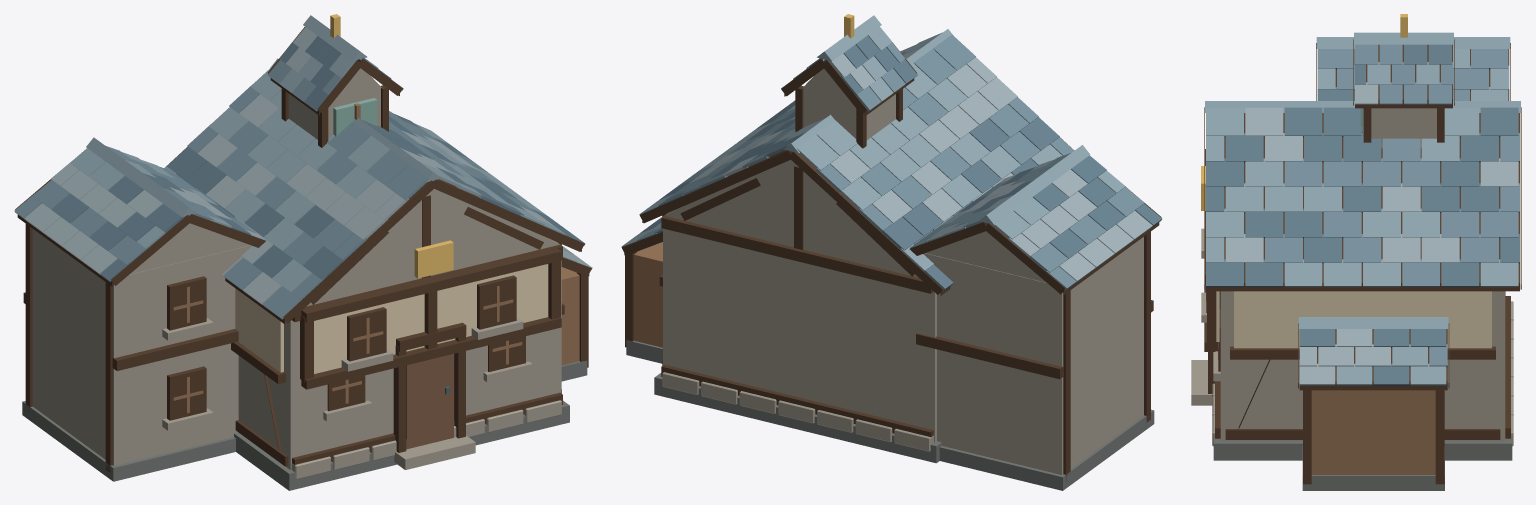
Rendered from ENV_Civic_guild_LOD0.glb.
3 renders of one model, left to right at view 1: azimuth 30°, elevation 25°; view 2: azimuth 150°, elevation 25°; view 3: azimuth 270°, elevation 25°, orthographic.
Parts seen in each view (by area): view 1: ENV_Civic_guild_LOD0_roof_roofTiles, ENV_Civic_guild_LOD0_stage7_upper_wing_stone, ENV_Civic_guild_LOD0_shell_stone, ENV_Civic_guild_LOD0_stage7_upper_wing_roofTiles, ENV_Civic_guild_LOD0_guild_hall_woodDark, ENV_Civic_guild_LOD0_shell_woodDark, ENV_Civic_guild_LOD0_stage7_upper_wing_woodDark, ENV_Civic_guild_LOD0_guild_hall_plasterIvory, ENV_Civic_guild_LOD0_stage8_roof_lantern_roofTiles, ENV_Civic_guild_LOD0_shell_wood, ENV_Civic_guild_LOD0_roof_woodDark, ENV_Civic_guild_LOD0_foundation_stoneDark (+9 smaller); view 2: ENV_Civic_guild_LOD0_shell_stone, ENV_Civic_guild_LOD0_stage7_upper_wing_stone, ENV_Civic_guild_LOD0_roof_roofTiles, ENV_Civic_guild_LOD0_stage7_upper_wing_roofTiles, ENV_Civic_guild_LOD0_shell_woodDark, ENV_Civic_guild_LOD0_stage7_upper_wing_woodDark, ENV_Civic_guild_LOD0_stage8_roof_lantern_roofTiles, ENV_Civic_guild_LOD0_foundation_stone, ENV_Civic_guild_LOD0_roof_woodDark, ENV_Civic_guild_LOD0_stage7_upper_wing_stoneDark, ENV_Civic_guild_LOD0_foundation_stoneDark, ENV_Civic_guild_LOD0_stage8_roof_lantern_stone (+4 smaller); view 3: ENV_Civic_guild_LOD0_roof_roofTiles, ENV_Civic_guild_LOD0_shell_stone, ENV_Civic_guild_LOD0_stage5_shed_woodLight, ENV_Civic_guild_LOD0_guild_hall_plasterIvory, ENV_Civic_guild_LOD0_stage5_shed_roofTiles, ENV_Civic_guild_LOD0_stage8_roof_lantern_roofTiles, ENV_Civic_guild_LOD0_stage7_upper_wing_roofTiles, ENV_Civic_guild_LOD0_roof_woodDark, ENV_Civic_guild_LOD0_shell_woodDark, ENV_Civic_guild_LOD0_foundation_stoneDark, ENV_Civic_guild_LOD0_stage5_shed_woodDark, ENV_Civic_guild_LOD0_guild_hall_woodDark (+4 smaller).
Boxes of the visible parts, x1=… form: ENV_Civic_guild_LOD0_roof_roofTiles: x1=164, y1=58, x2=585, y2=319; ENV_Civic_guild_LOD0_stage7_upper_wing_stone: x1=32, y1=223, x2=251, y2=465; ENV_Civic_guild_LOD0_shell_stone: x1=238, y1=189, x2=561, y2=469; ENV_Civic_guild_LOD0_stage7_upper_wing_roofTiles: x1=14, y1=137, x2=265, y2=281; ENV_Civic_guild_LOD0_guild_hall_woodDark: x1=231, y1=247, x2=564, y2=389; ENV_Civic_guild_LOD0_shell_woodDark: x1=235, y1=195, x2=562, y2=466; ENV_Civic_guild_LOD0_stage7_upper_wing_woodDark: x1=15, y1=148, x2=265, y2=472; ENV_Civic_guild_LOD0_guild_hall_plasterIvory: x1=235, y1=264, x2=548, y2=373; ENV_Civic_guild_LOD0_stage8_roof_lantern_roofTiles: x1=267, y1=15, x2=403, y2=111; ENV_Civic_guild_LOD0_shell_wood: x1=406, y1=354, x2=453, y2=449; ENV_Civic_guild_LOD0_roof_woodDark: x1=165, y1=146, x2=584, y2=324; ENV_Civic_guild_LOD0_foundation_stoneDark: x1=234, y1=400, x2=569, y2=490; ENV_Civic_guild_LOD0_shell_stone: x1=663, y1=160, x2=936, y2=442; ENV_Civic_guild_LOD0_stage7_upper_wing_stone: x1=923, y1=231, x2=1143, y2=474; ENV_Civic_guild_LOD0_roof_roofTiles: x1=639, y1=29, x2=1074, y2=290; ENV_Civic_guild_LOD0_stage7_upper_wing_roofTiles: x1=910, y1=145, x2=1162, y2=289; ENV_Civic_guild_LOD0_shell_woodDark: x1=661, y1=166, x2=933, y2=437; ENV_Civic_guild_LOD0_stage7_upper_wing_woodDark: x1=909, y1=187, x2=1161, y2=481; ENV_Civic_guild_LOD0_stage8_roof_lantern_roofTiles: x1=781, y1=15, x2=917, y2=111; ENV_Civic_guild_LOD0_foundation_stone: x1=662, y1=372, x2=933, y2=451; ENV_Civic_guild_LOD0_roof_woodDark: x1=639, y1=138, x2=1074, y2=295; ENV_Civic_guild_LOD0_stage7_upper_wing_stoneDark: x1=939, y1=409, x2=1154, y2=490; ENV_Civic_guild_LOD0_foundation_stoneDark: x1=654, y1=373, x2=941, y2=463; ENV_Civic_guild_LOD0_stage8_roof_lantern_stone: x1=803, y1=69, x2=895, y2=140; ENV_Civic_guild_LOD0_roof_roofTiles: x1=1205, y1=101, x2=1520, y2=287; ENV_Civic_guild_LOD0_shell_stone: x1=1191, y1=291, x2=1505, y2=441; ENV_Civic_guild_LOD0_stage5_shed_woodLight: x1=1311, y1=390, x2=1435, y2=474; ENV_Civic_guild_LOD0_guild_hall_plasterIvory: x1=1216, y1=291, x2=1491, y2=348; ENV_Civic_guild_LOD0_stage5_shed_roofTiles: x1=1298, y1=317, x2=1448, y2=385; ENV_Civic_guild_LOD0_stage8_roof_lantern_roofTiles: x1=1354, y1=32, x2=1453, y2=104; ENV_Civic_guild_LOD0_stage7_upper_wing_roofTiles: x1=1316, y1=37, x2=1510, y2=100; ENV_Civic_guild_LOD0_roof_woodDark: x1=1204, y1=107, x2=1521, y2=291; ENV_Civic_guild_LOD0_shell_woodDark: x1=1208, y1=296, x2=1510, y2=439; ENV_Civic_guild_LOD0_foundation_stoneDark: x1=1213, y1=439, x2=1512, y2=460; ENV_Civic_guild_LOD0_stage5_shed_woodDark: x1=1298, y1=323, x2=1449, y2=484; ENV_Civic_guild_LOD0_guild_hall_woodDark: x1=1204, y1=149, x2=1495, y2=359.
Bounding box in the file's own units: 8.76 × 6.55 × 5.22.
